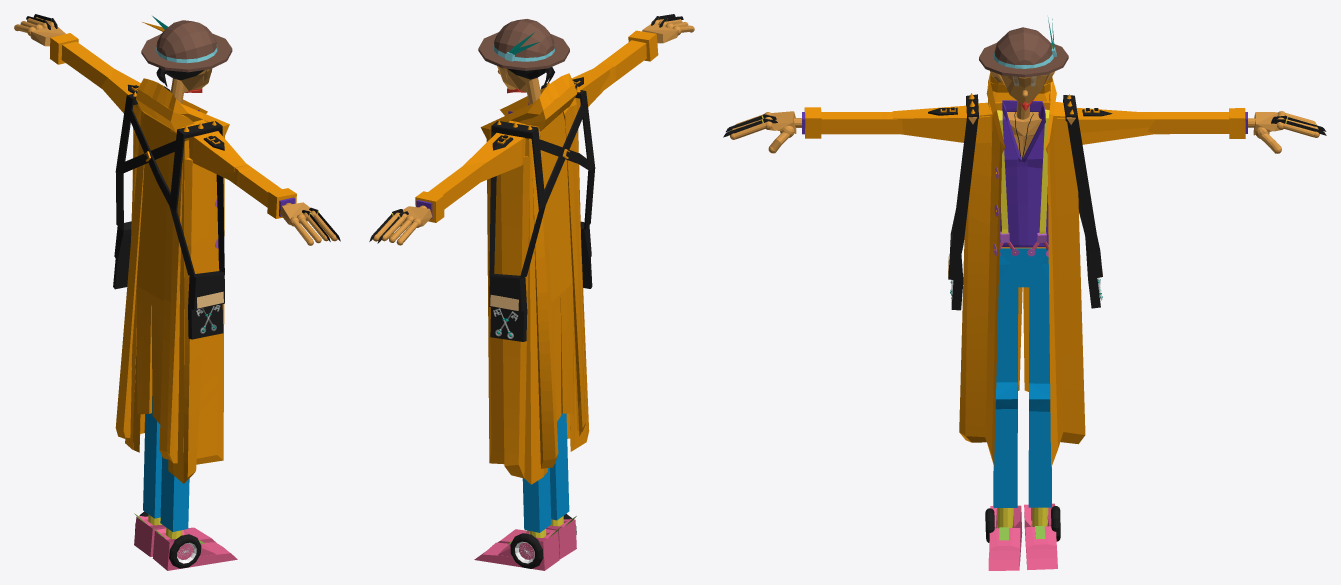
File: Radio Host.glb
3 views of the same model, side by side, from view 1: azimuth 30°, elevation 25°; view 2: azimuth 150°, elevation 25°; view 3: azimuth 270°, elevation 25° (orthographic).
Visible parts, largest first — view 1: group270796255, group290596801, group1182870393, group2118815369, group7190351, group1662897835, group2067265548, group481758540, group526765851, group1903349860, group765214950, group1694933472 (+8 smaller); view 2: group290596801, group2067265548, group1662897835, group7190351, group2118815369, group481758540, group526765851, group1182870393, group270796255, group1074912704, group2030277708, group1694933472 (+8 smaller); view 3: group7190351, group290596801, group270796255, group526765851, group233888522, group481758540, group2067265548, group1182870393, group1074912704, group765214950, group1903349860, group2030277708 (+1 smaller).
Part boxes in pixels (box(x1,y1,x2,y2)): group270796255: box(173, 99, 229, 483); group290596801: box(125, 99, 207, 449); group1182870393: box(122, 121, 224, 339); group2118815369: box(159, 129, 182, 463); group7190351: box(143, 396, 189, 531); group1662897835: box(115, 104, 145, 438); group2067265548: box(113, 86, 170, 289); group481758540: box(156, 20, 217, 92); group526765851: box(61, 41, 295, 216); group1903349860: box(152, 528, 237, 570); group765214950: box(189, 131, 247, 179); group1694933472: box(141, 33, 232, 72); group290596801: box(480, 98, 573, 484); group2067265548: box(489, 121, 589, 341); group1662897835: box(531, 127, 558, 468); group7190351: box(522, 413, 569, 532); group2118815369: box(563, 106, 585, 436); group481758540: box(493, 19, 554, 92); group526765851: box(416, 40, 646, 219); group1182870393: box(541, 83, 595, 288); group270796255: box(500, 75, 589, 449); group1074912704: box(463, 133, 525, 181); group2030277708: box(474, 529, 559, 570); group1694933472: box(478, 32, 569, 70); group7190351: box(993, 247, 1051, 508); group290596801: box(995, 78, 1085, 467); group270796255: box(959, 73, 1005, 466); group526765851: box(802, 112, 1247, 247); group233888522: box(1000, 159, 1048, 247); group481758540: box(993, 27, 1053, 103); group2067265548: box(1063, 95, 1102, 308); group1182870393: box(948, 94, 978, 310); group1074912704: box(1056, 108, 1155, 145); group765214950: box(892, 105, 991, 143); group1903349860: box(988, 505, 1022, 570); group2030277708: box(1024, 503, 1057, 569).
Bounding box in the file's own units: 1.37 × 7.75 × 8.02.
